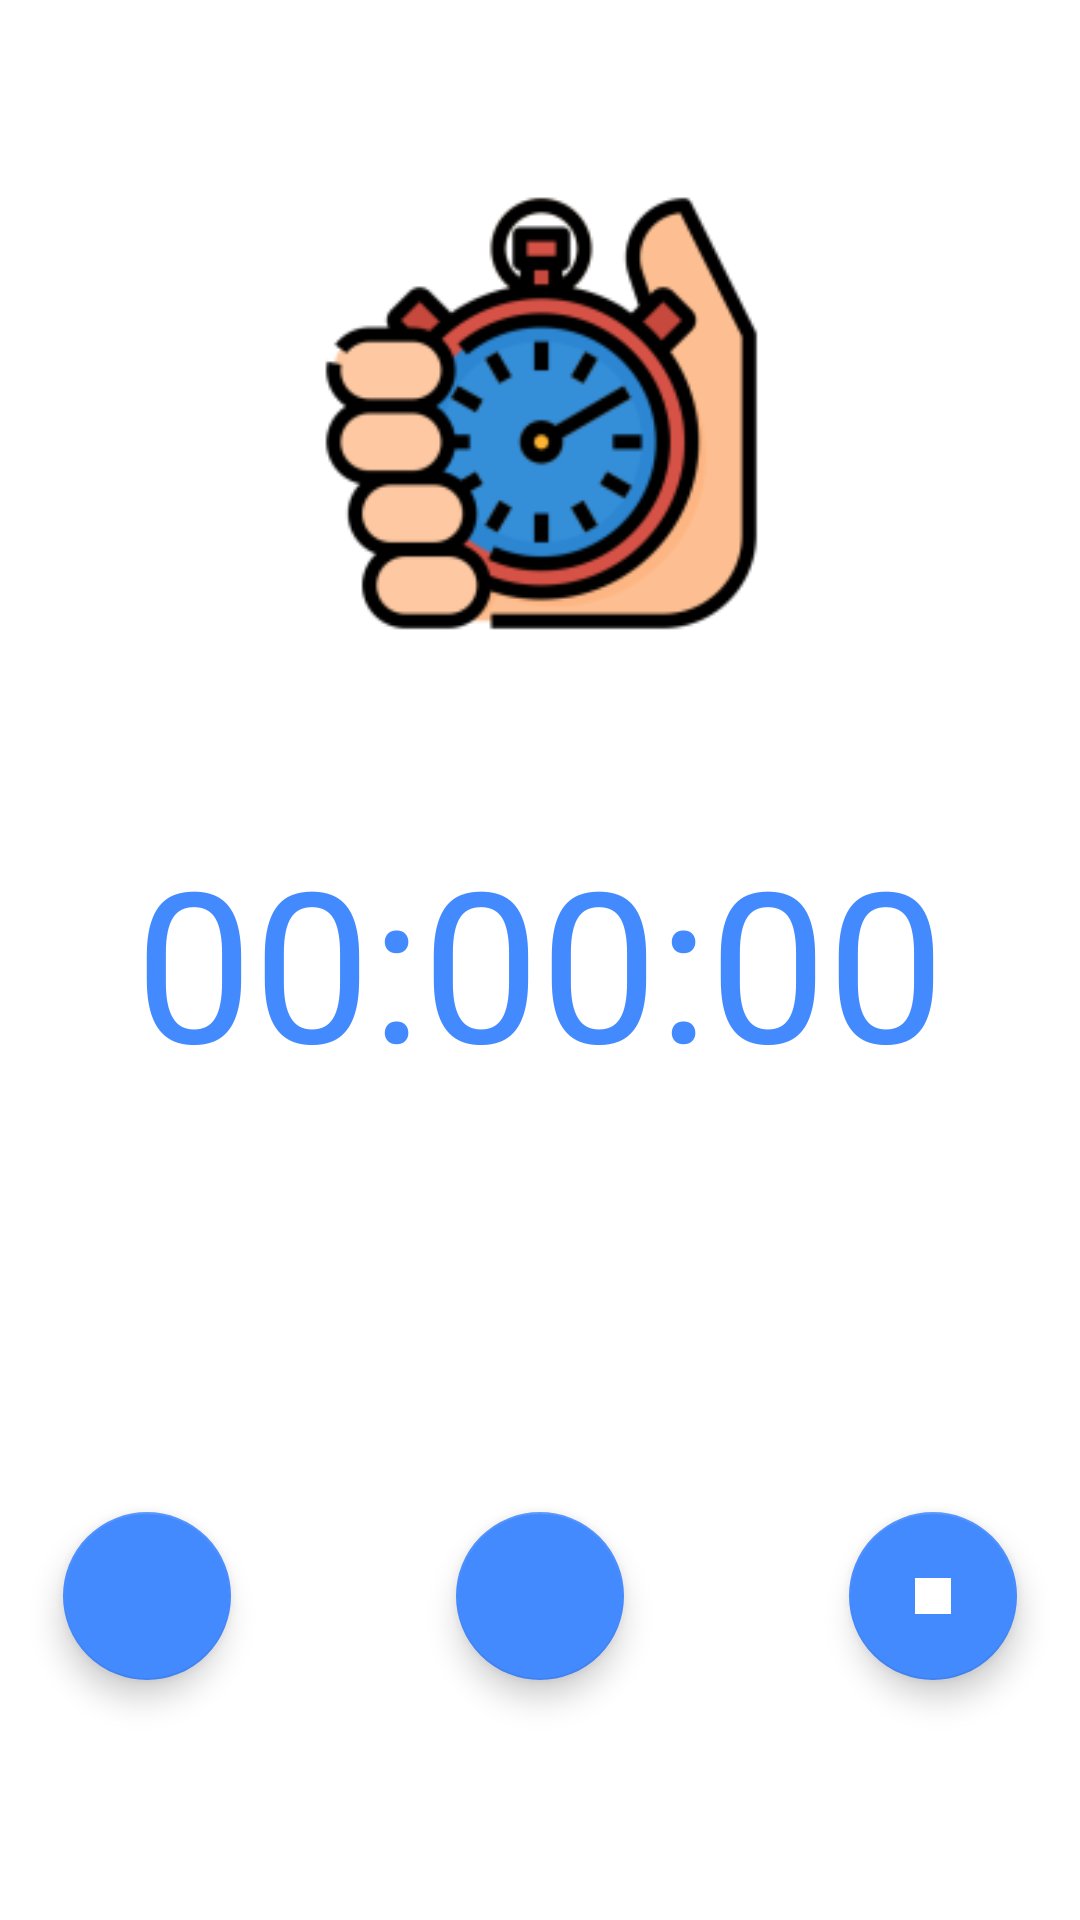

Where icons sit on this 1080x1920 app screen, as (x1, y1, x2, y2):
stop: (849, 1512, 1017, 1680)
